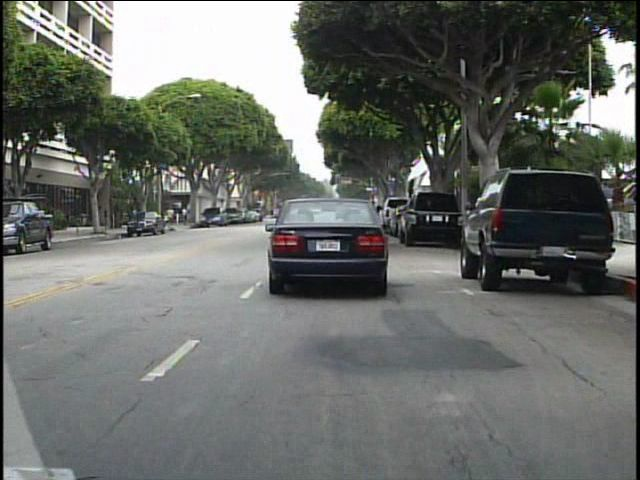person: (181, 203, 193, 228), (168, 205, 178, 225)
